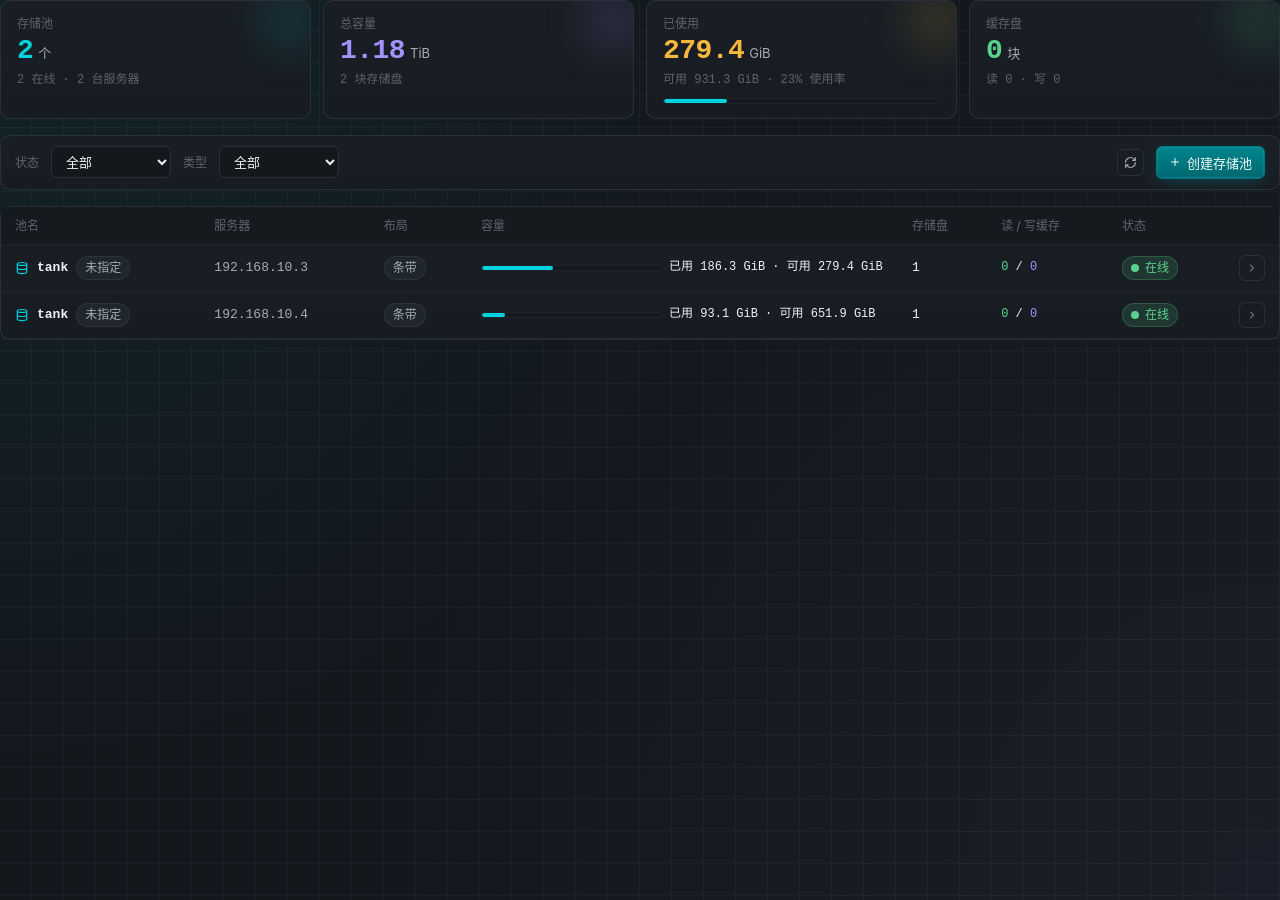
Test: 存储页的集群口径 › 池详情里的服务器写 IP
Step 1. Click the text "tank" in the row of "192.168.10.4" → (53, 315), box [37,306,68,324]
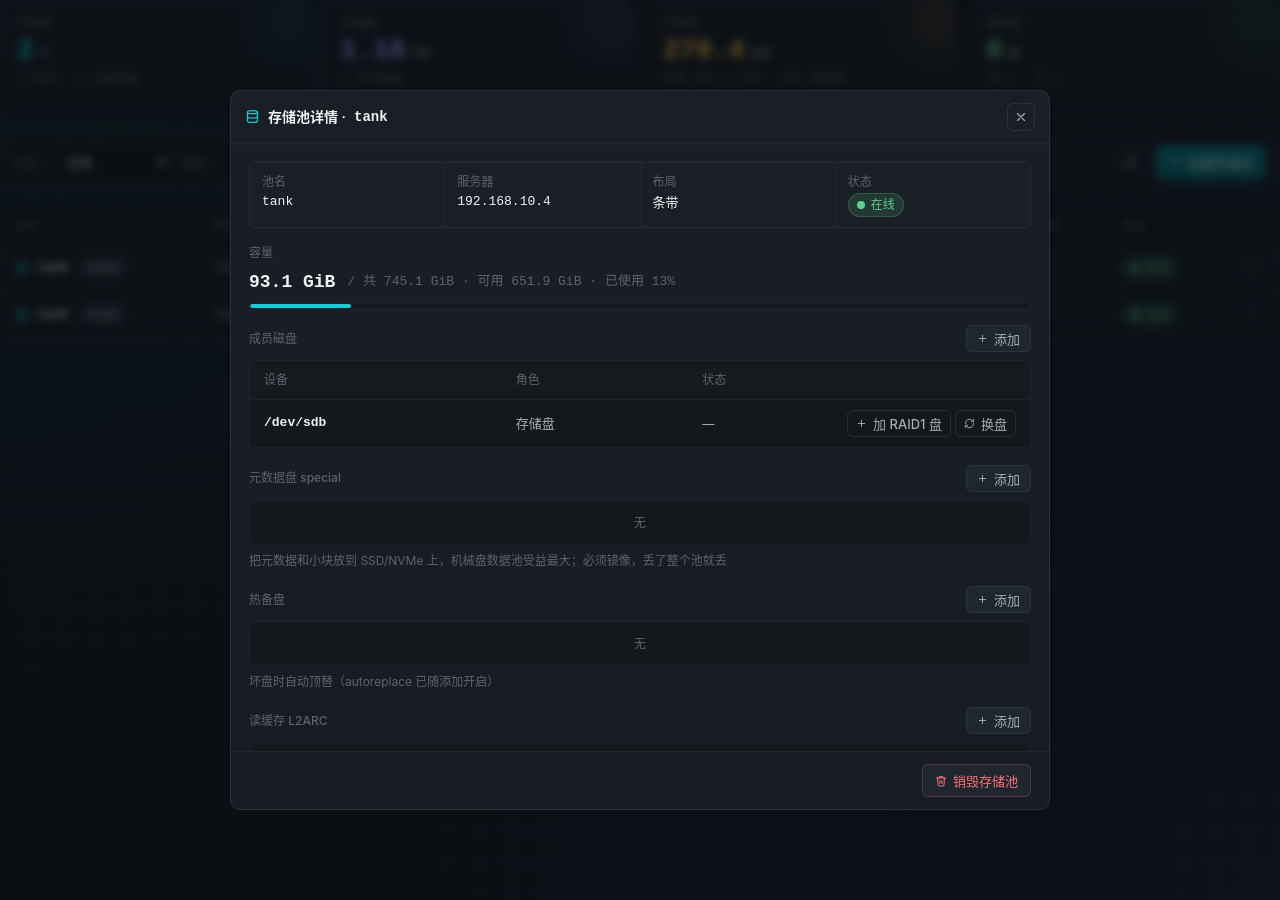
Expected: the text "192.168.10.4" is shown, [457,194,551,209]
